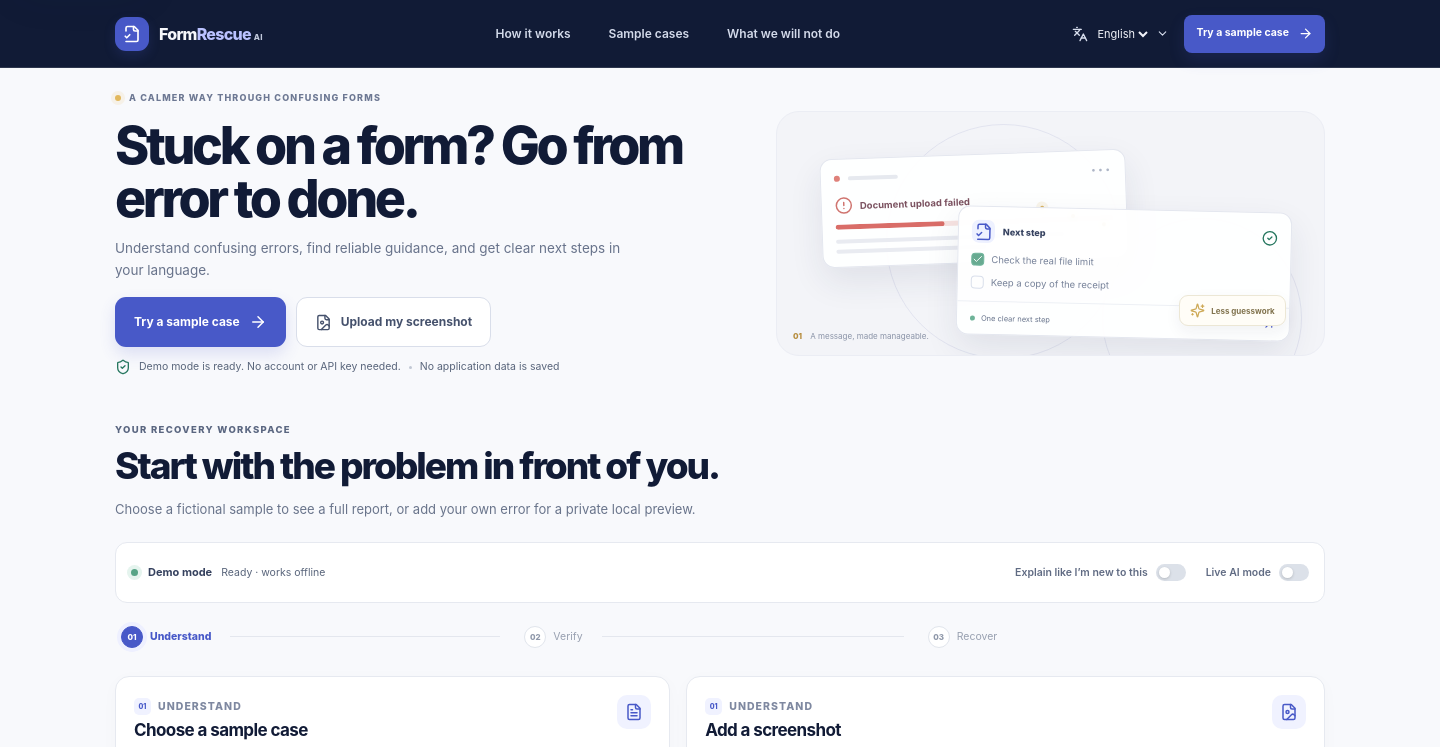
FormRescue user workflows › renders complete Hindi evidence, source and recovery content for civicapply-expiry
Click the button "Try a sample case" in the row of "Sample cases".
click(1255, 34)  # box [1184,14,1325,52]
(page scrolled)
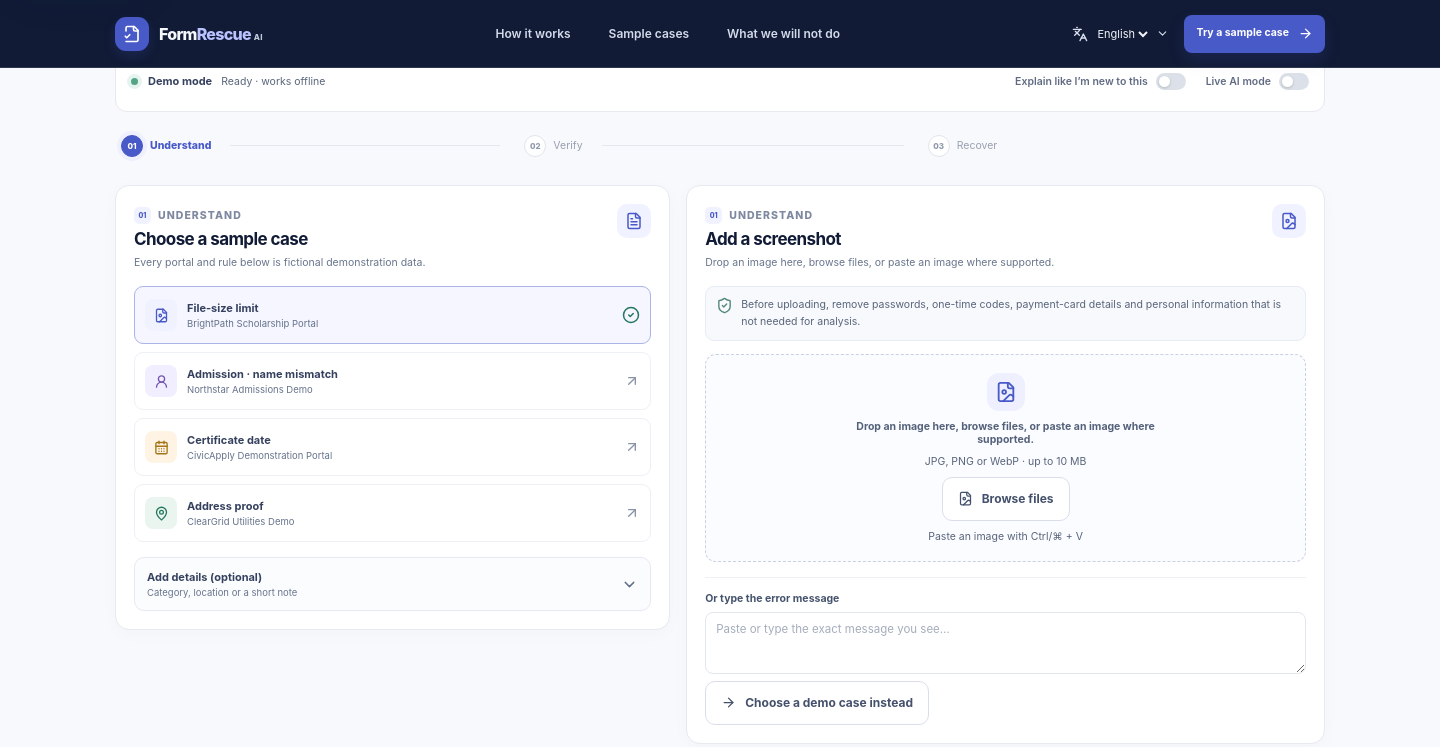
Click the button "Certificate date CivicApply Demonstration Portal".
click(161, 447)  # box [134,418,651,476]
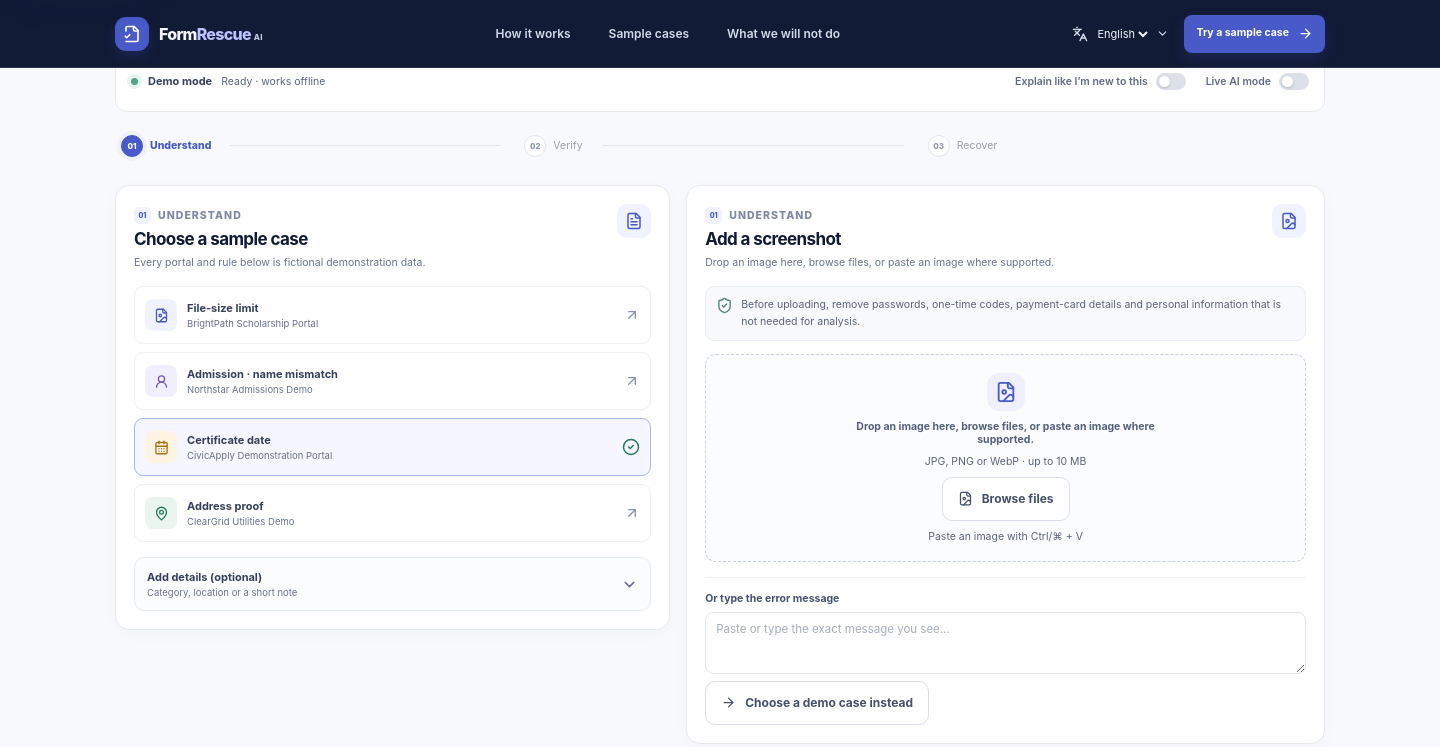
Select "हिन्दी" in the dropdown named "Language" at (1122, 34), box [1094,26,1152,42]
(page scrolled)
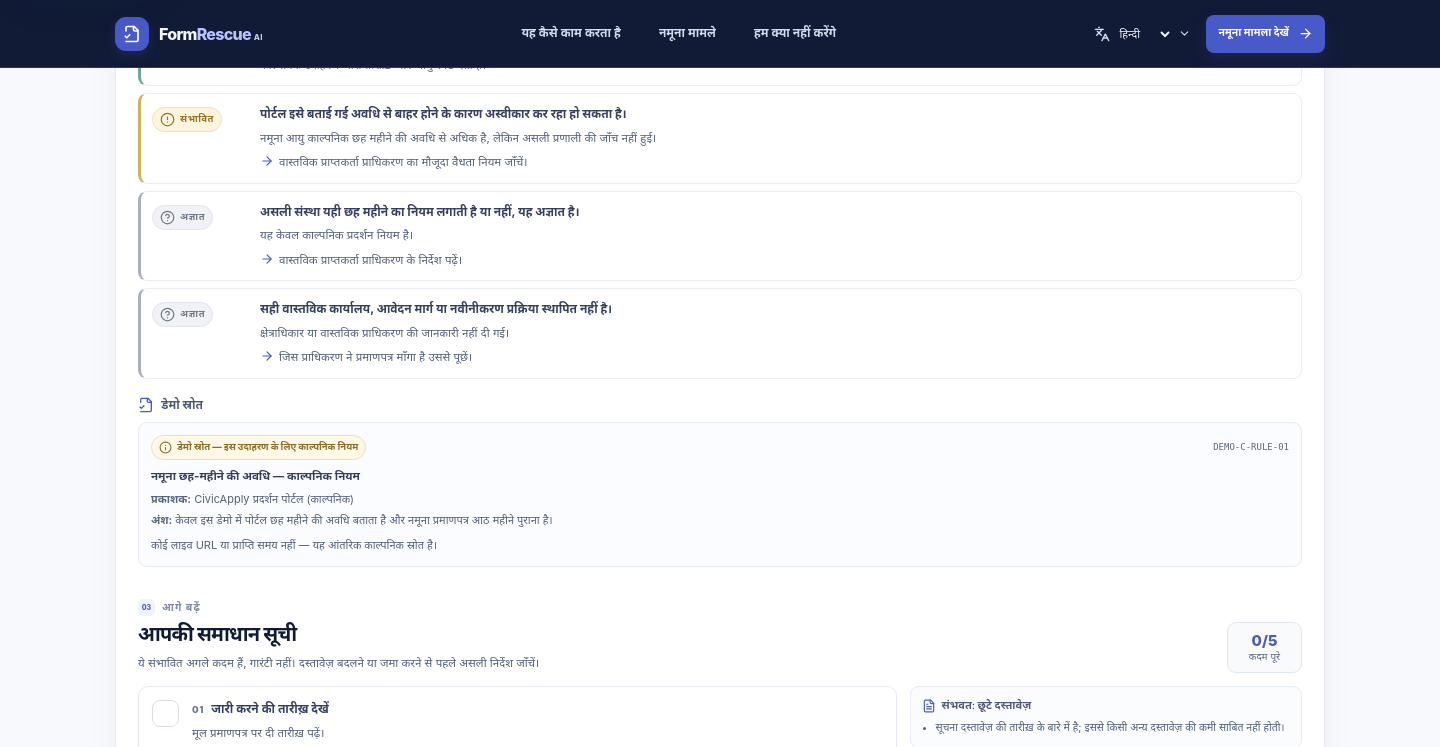
Now the text "DEMO-C-RULE-01" is shown, box [1213,442,1289,452]
Now the text "डेमो स्रोत — इस उदाहरण के लिए काल्पनिक नियम" is shown, box [151,434,366,460]
